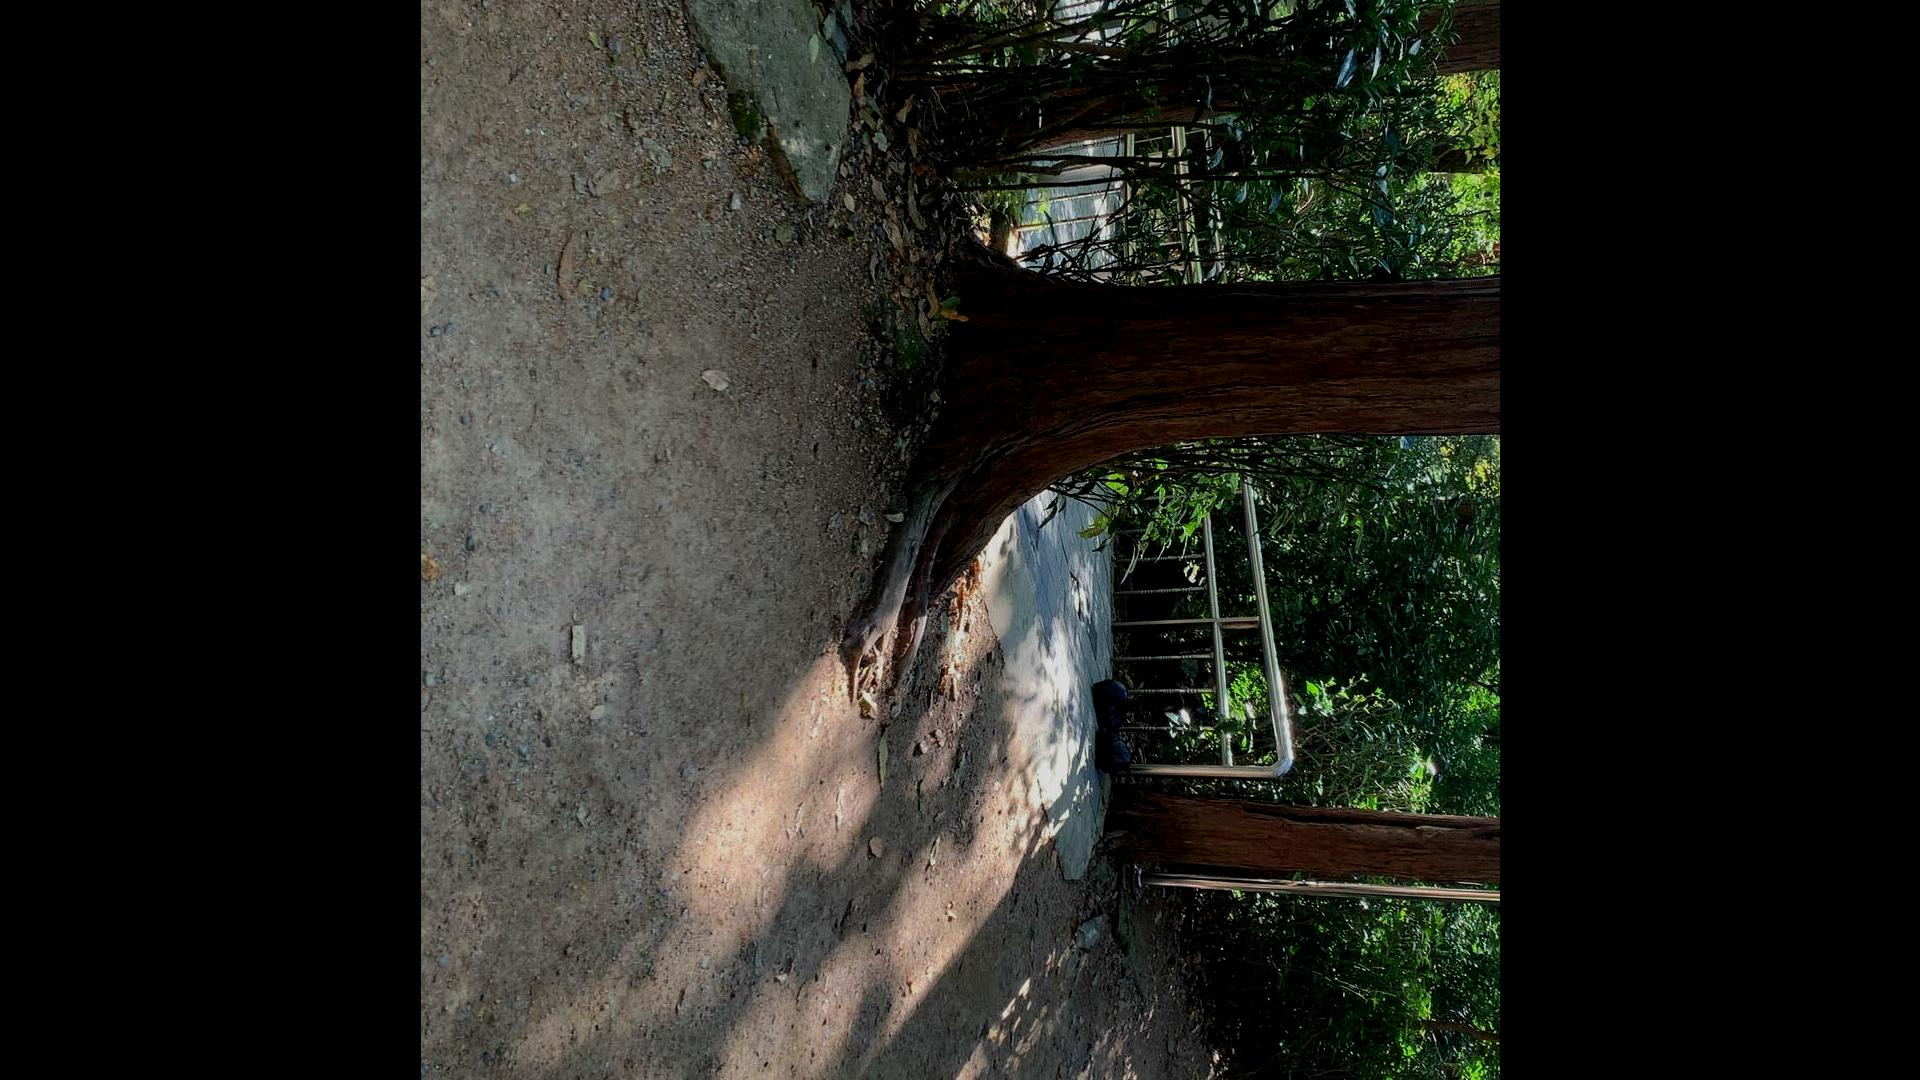black_bag: (1094, 677, 1138, 730), (1095, 724, 1135, 776)
